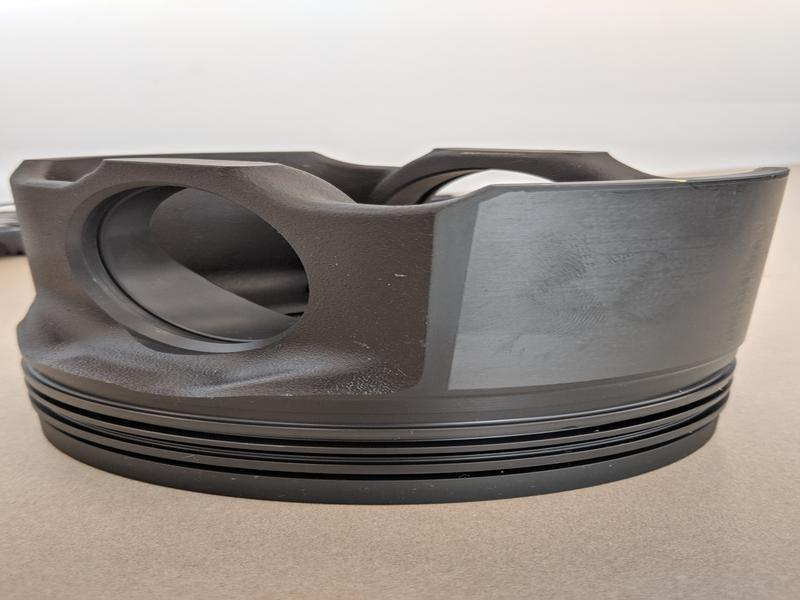piston: (6, 144, 794, 509)
